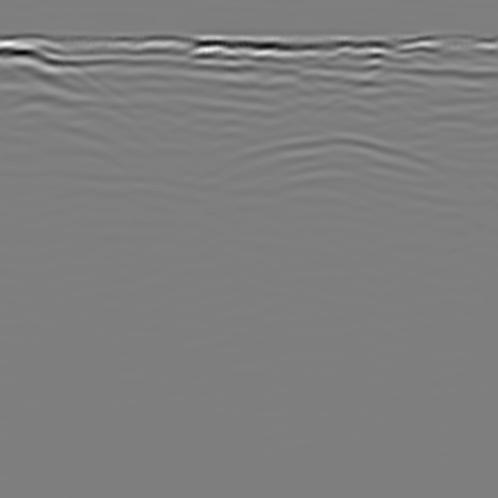hyperbola: (195, 122, 471, 218)
